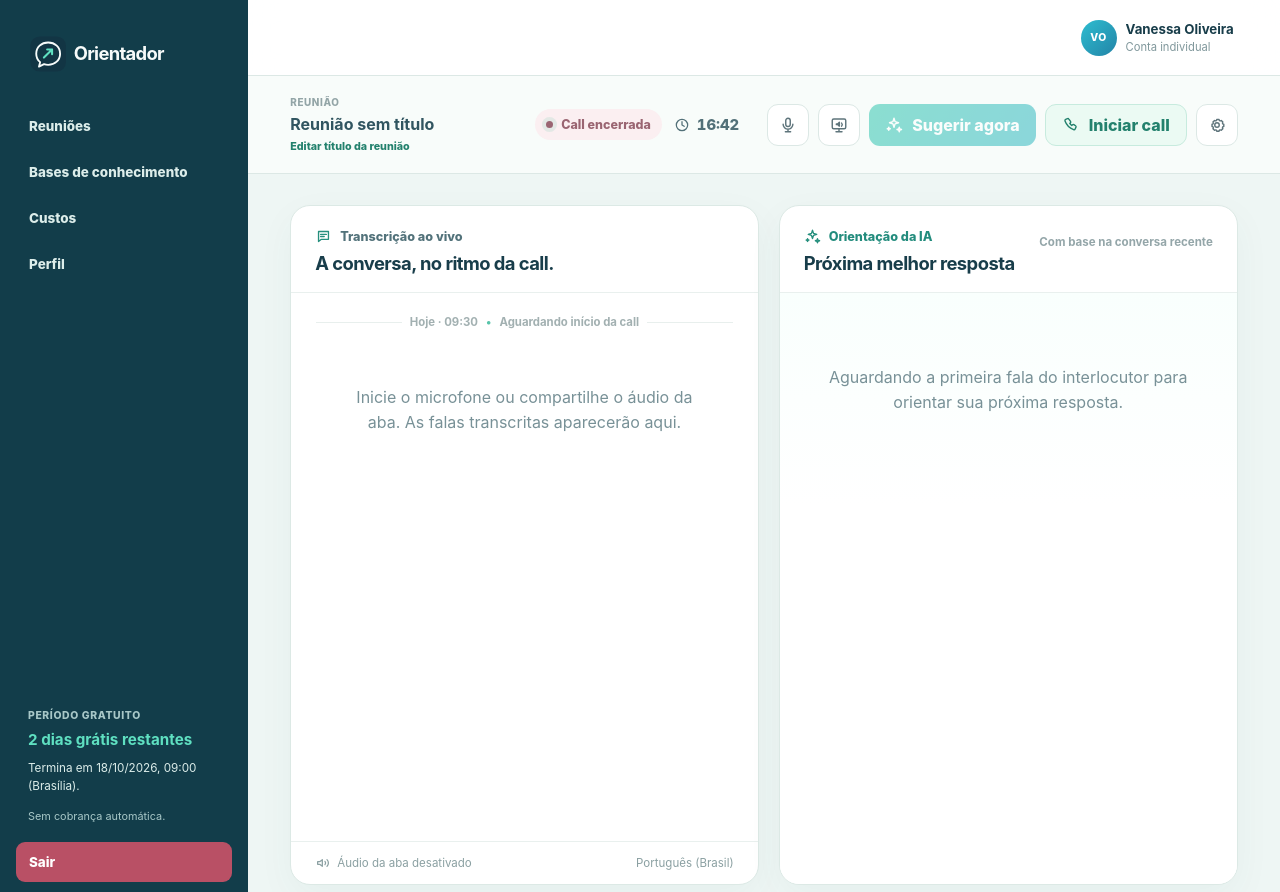
Test: tela principal de call › permite ajustar manualmente o título sugerido da reunião
Click the button "Editar título da reunião" at point(350, 147), box [290,140,410,153]
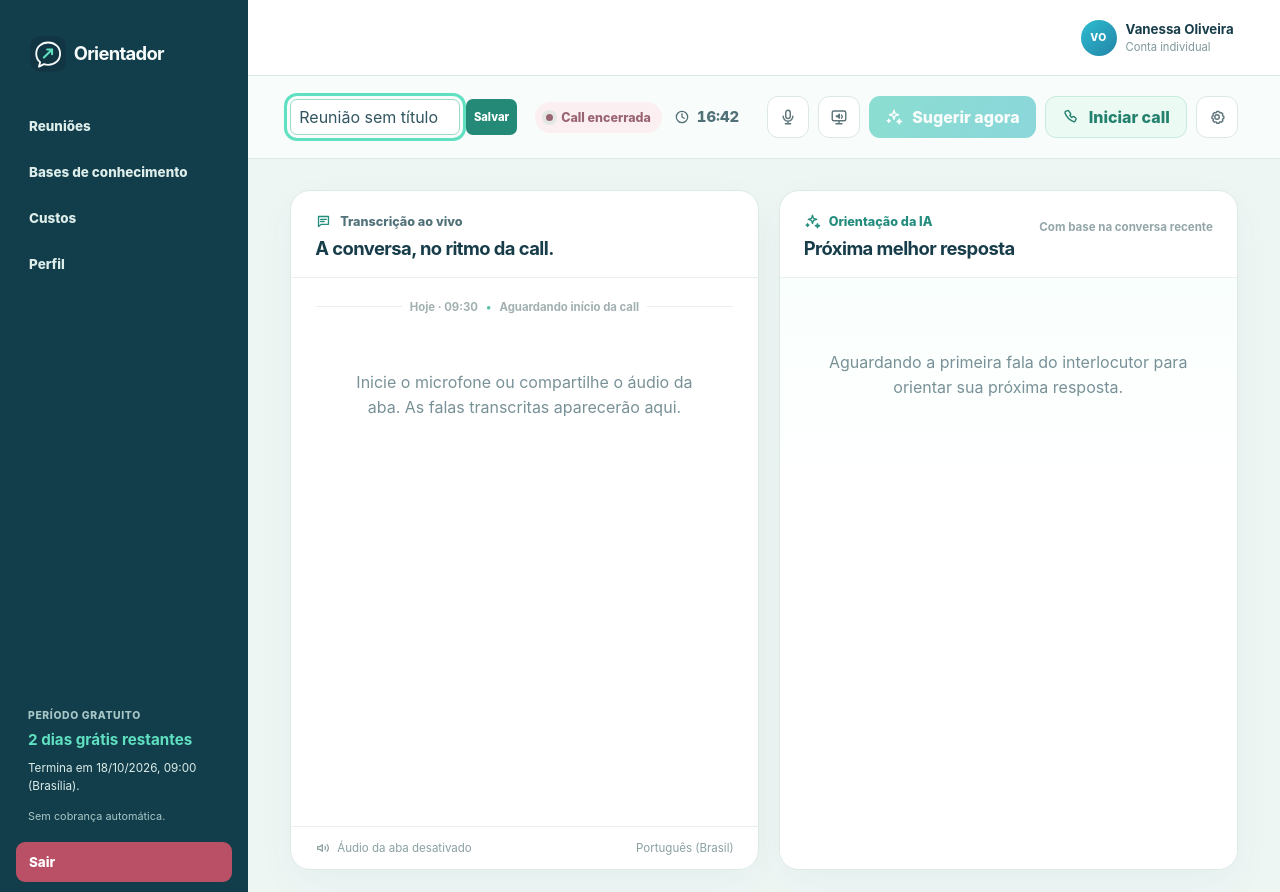
Replace the text in the field named "Título da reunião" with "Discovery · Grupo Aurora" at point(375, 117), box [290,99,460,135]
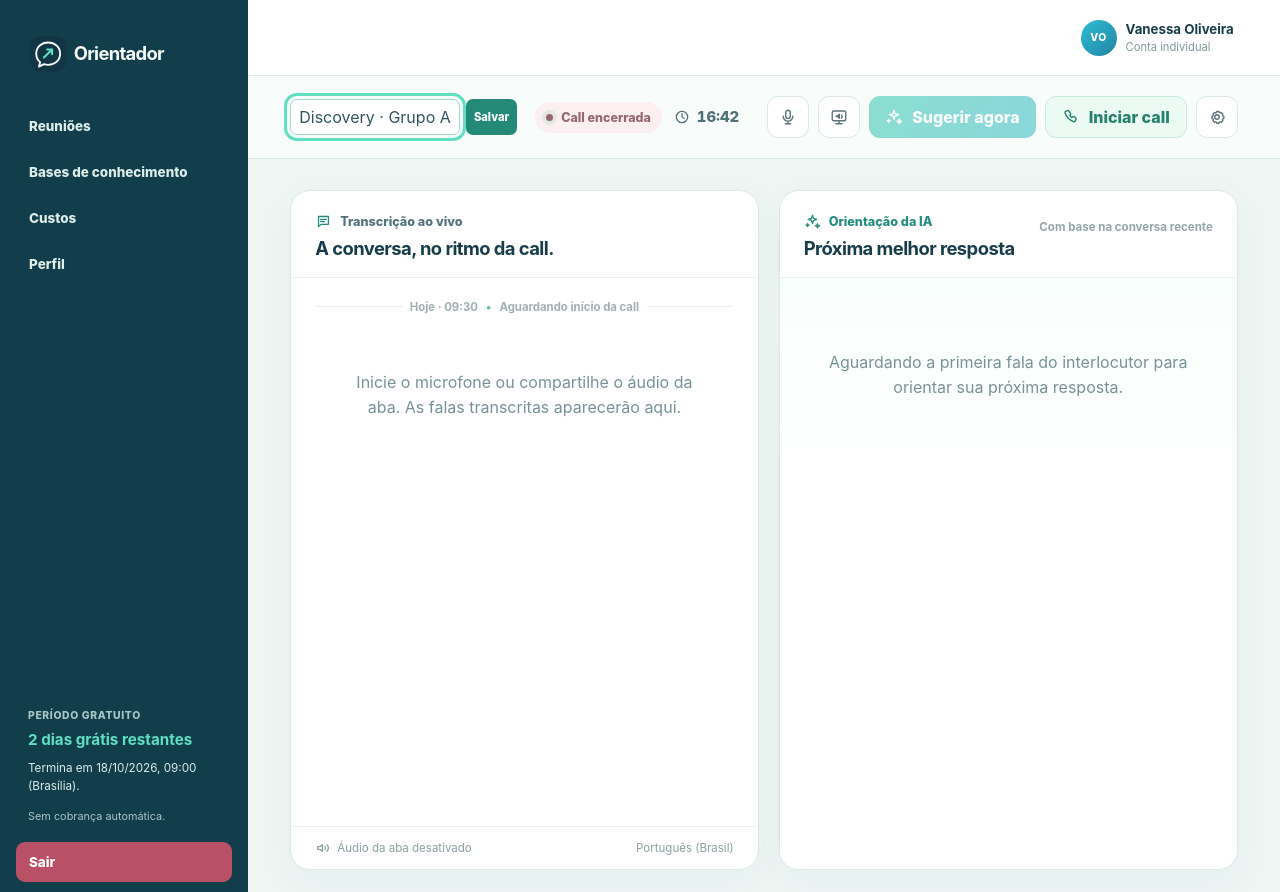
Click the button "Salvar" at point(492, 117), box [466,99,517,135]
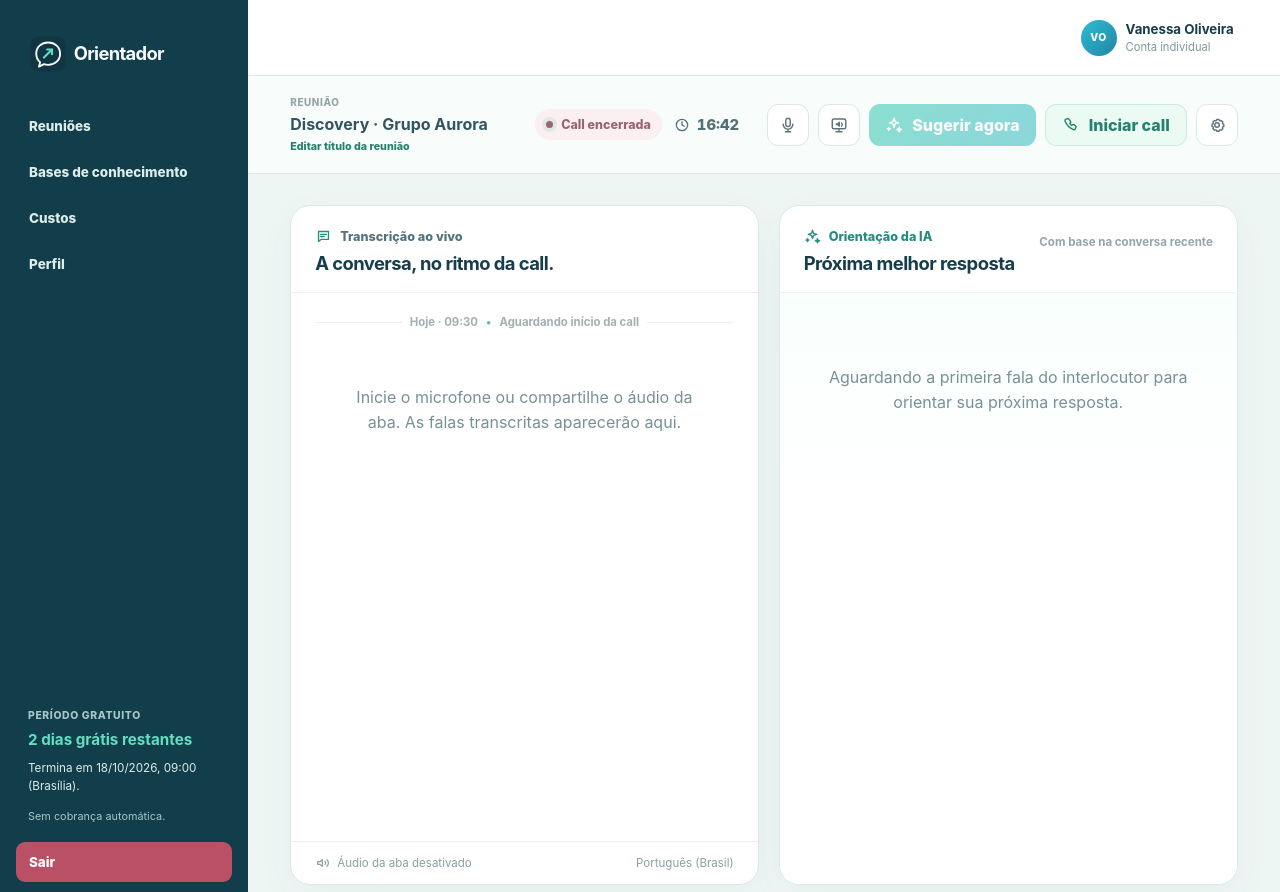
Expected: the text "Discovery · Grupo Aurora" is shown, [290,113,517,135]
